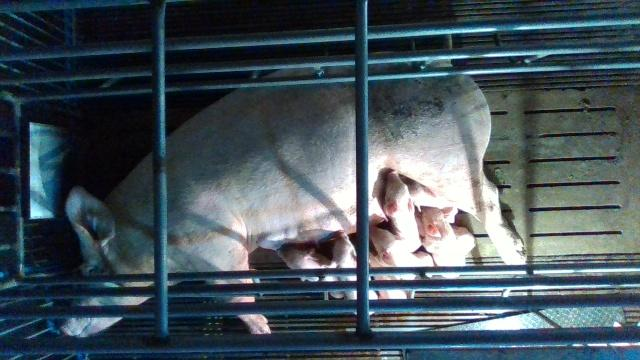piglet: (329, 230, 378, 316), (416, 206, 466, 278), (383, 171, 421, 253), (279, 248, 333, 282)
sow-sleep-lactate: (61, 50, 526, 337)
